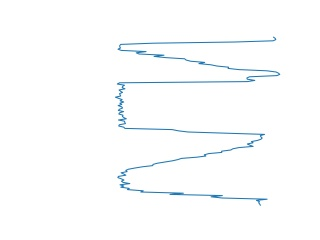distributaryChannelFill: (112, 71, 268, 142)
mouthBar: (114, 35, 283, 78)
underwaterDistributaryChannel: (113, 137, 271, 206)
